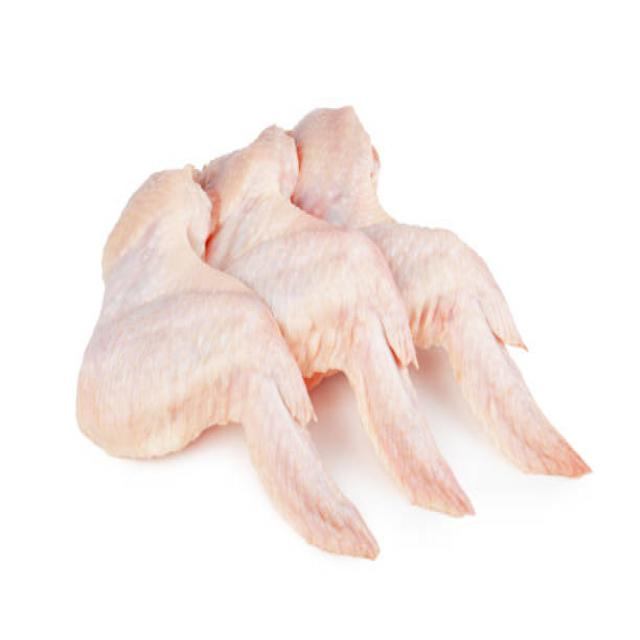Chicken Wing: (68, 172, 370, 560)
